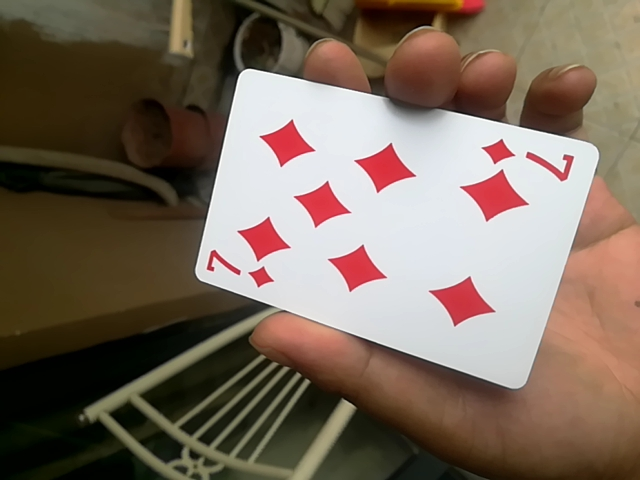fk 7: (189, 59, 602, 395)
